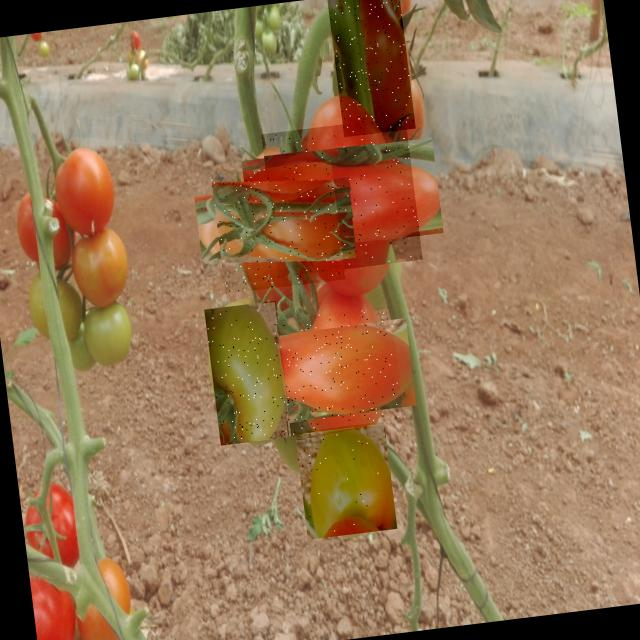Ripe Tomato: (261, 116, 422, 277), (210, 160, 346, 294), (275, 306, 404, 436), (326, 0, 415, 137)
Unripe Tomato: (204, 300, 292, 445), (294, 421, 396, 539)
